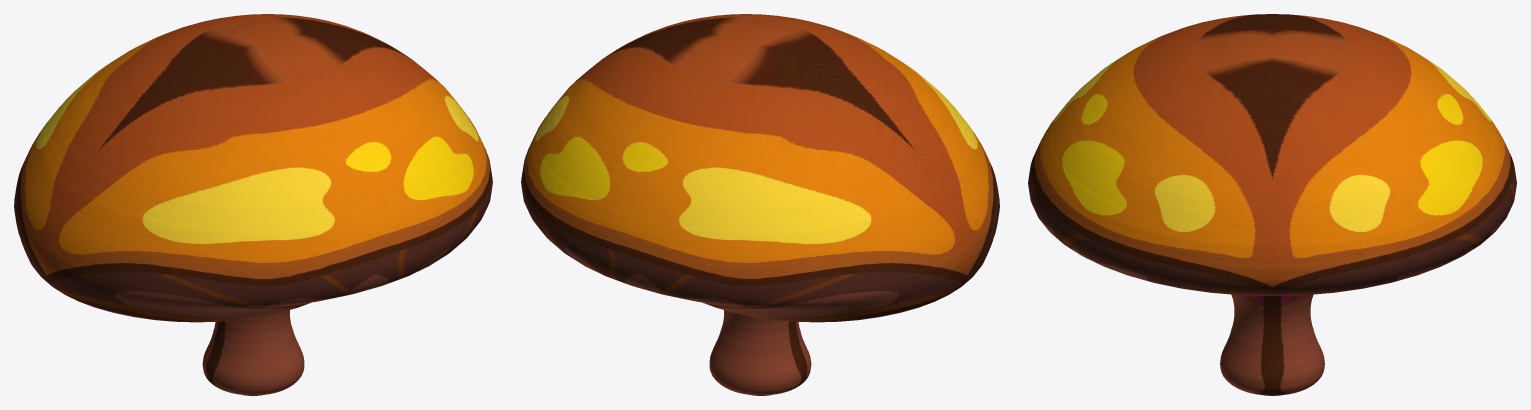
The model's file is amber_mushroom.glb.
The picture shows the model from 3 angles, left to right: view 1: azimuth 30°, elevation 25°; view 2: azimuth 150°, elevation 25°; view 3: azimuth 270°, elevation 25°; orthographic projection. The views are drawn at different scales.
Visible parts, largest first — view 1: amber_mushroom; view 2: amber_mushroom; view 3: amber_mushroom.
Part boxes in pixels (x1,y1,x2,y2): amber_mushroom: (14,14,492,395); amber_mushroom: (521,14,999,395); amber_mushroom: (1028,14,1516,395).
Bounding box in the file's own units: 1 × 0.7795 × 0.9883.
1 material, 1 textured.
